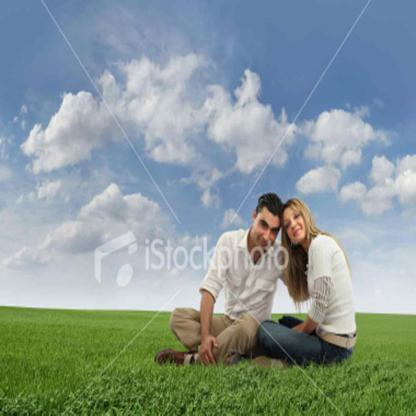face: (254, 210, 279, 253), (285, 205, 308, 246)
